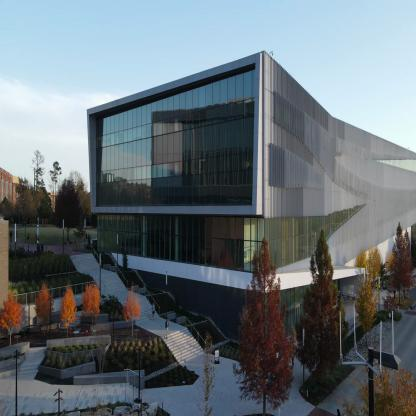Hunt Library: (54, 45, 415, 371)
